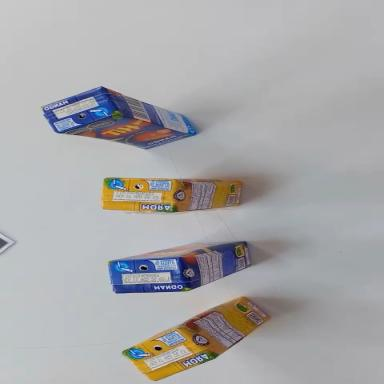HIT-MANGO: (38, 77, 201, 157), (107, 235, 254, 302)
HIT-MORA: (121, 288, 276, 384), (102, 178, 242, 213)
cara_F: (57, 100, 194, 168), (110, 236, 244, 268)
